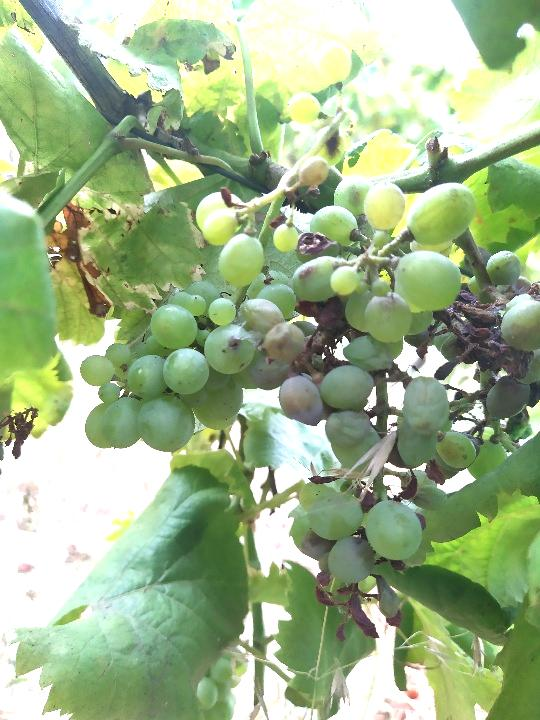grape: (192, 147, 540, 648)
